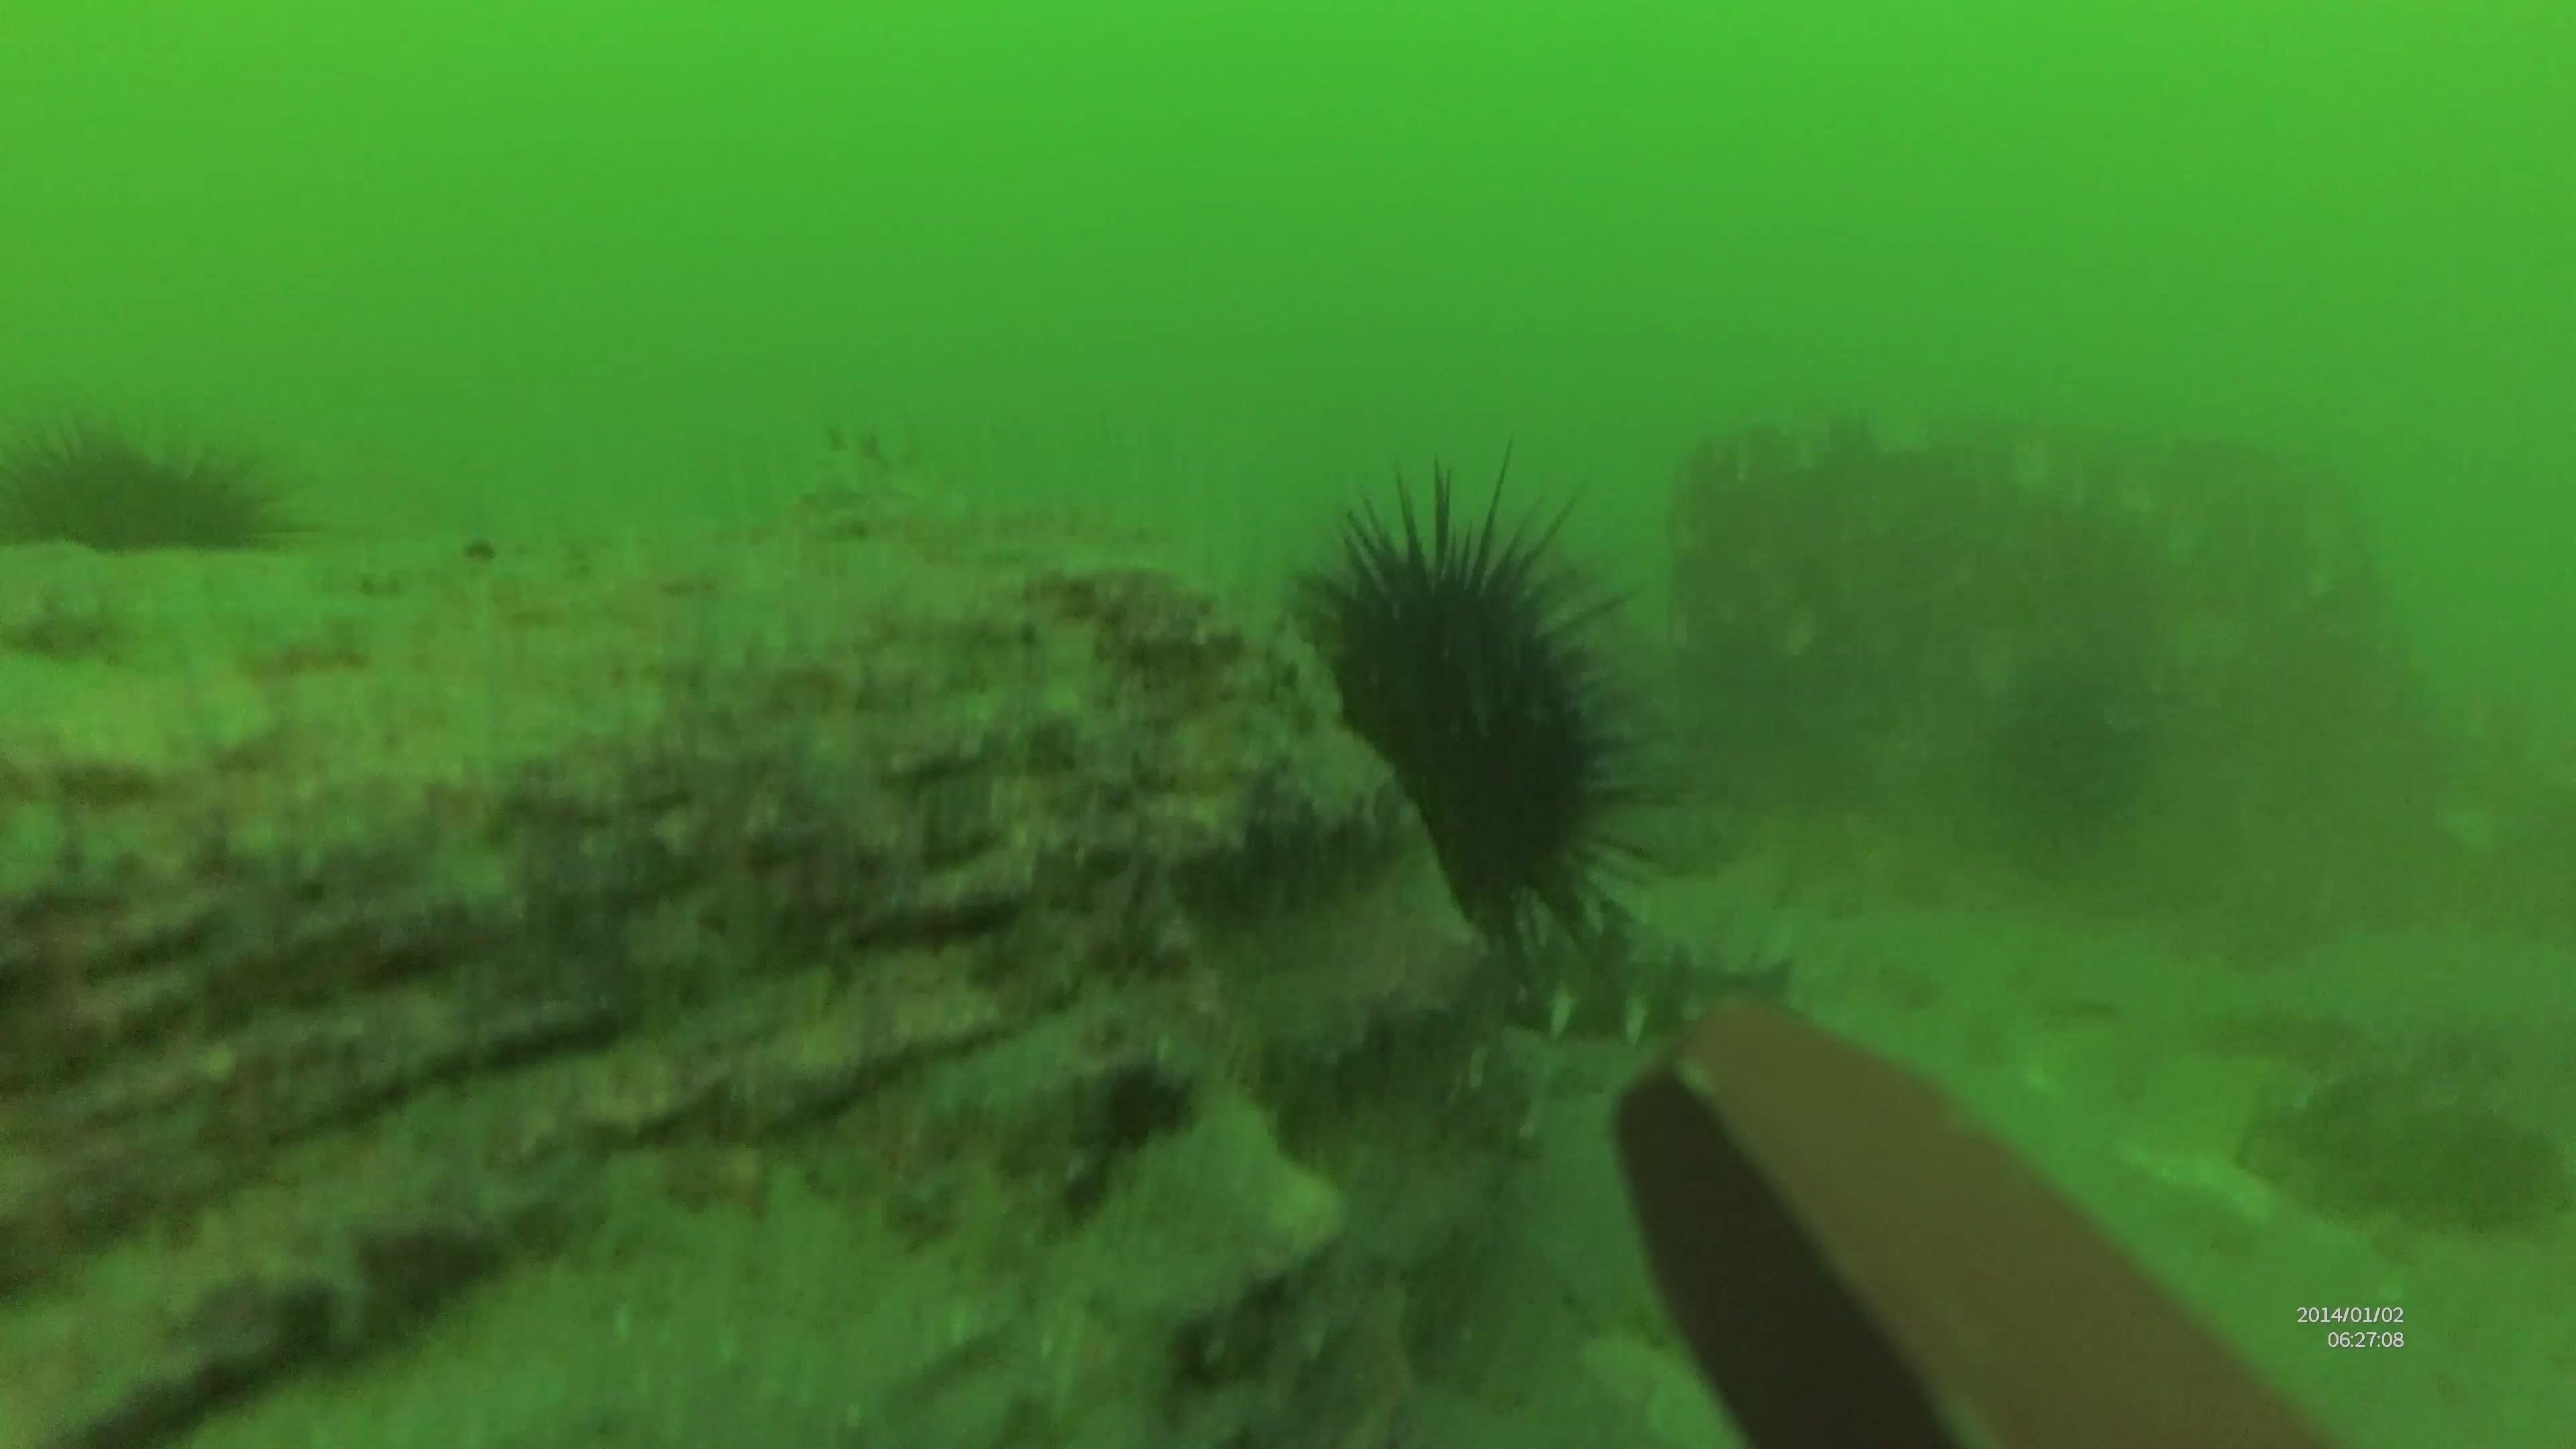echinus: (1277, 455, 1693, 957), (4, 405, 308, 566), (1976, 667, 2155, 867)
holothurian: (1460, 920, 1805, 1056)
